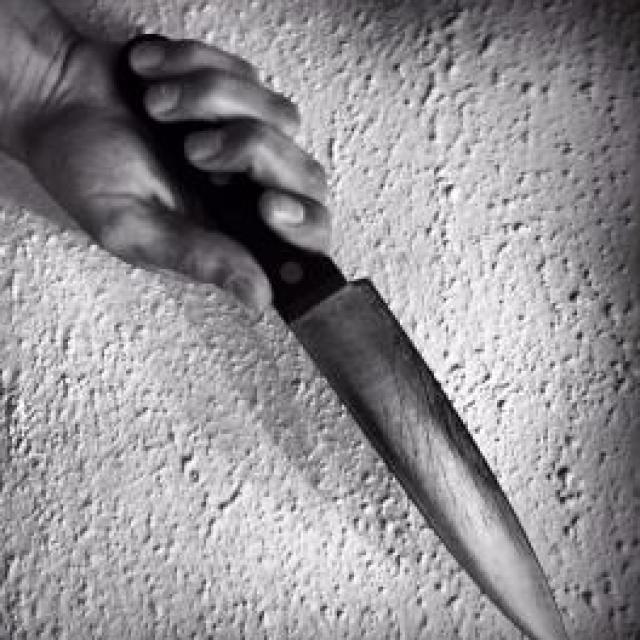knife: (113, 32, 579, 640)
